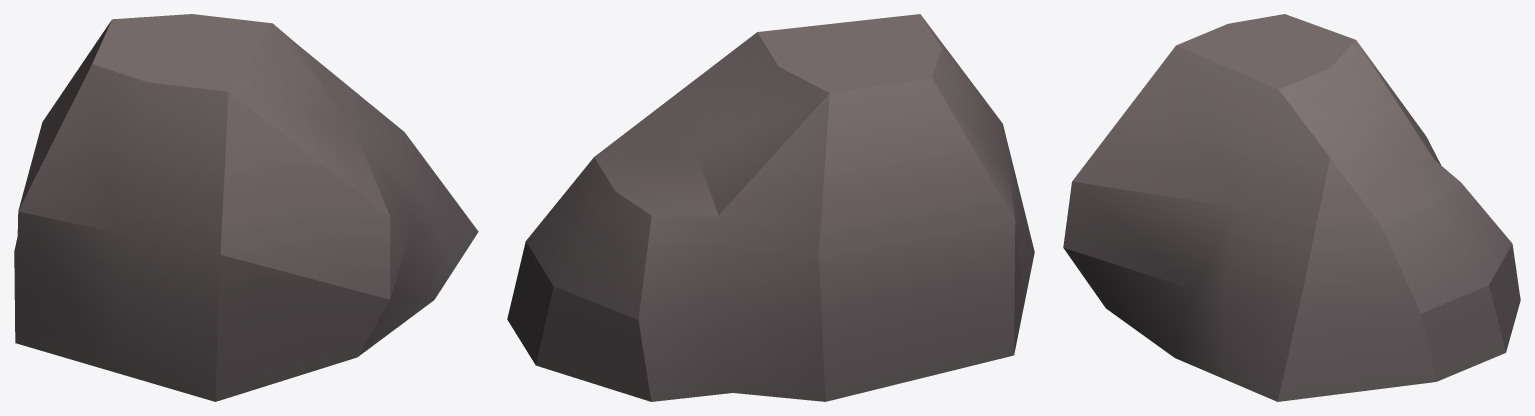
Rendered from p-roca.glb.
3 renders of one model, left to right at view 1: azimuth 30°, elevation 25°; view 2: azimuth 150°, elevation 25°; view 3: azimuth 270°, elevation 25°, orthographic. The views are drawn at different scales.
Visible parts, largest first — view 1: Boulder; view 2: Boulder; view 3: Boulder.
Part boxes in pixels (left/top/right/bottom): Boulder: left=14, top=14, right=478, bottom=401; Boulder: left=507, top=14, right=1034, bottom=401; Boulder: left=1063, top=14, right=1520, bottom=401.
Size of the model in its own units: 0.9627 by 0.5142 by 0.9469.
1 material, 1 textured.
